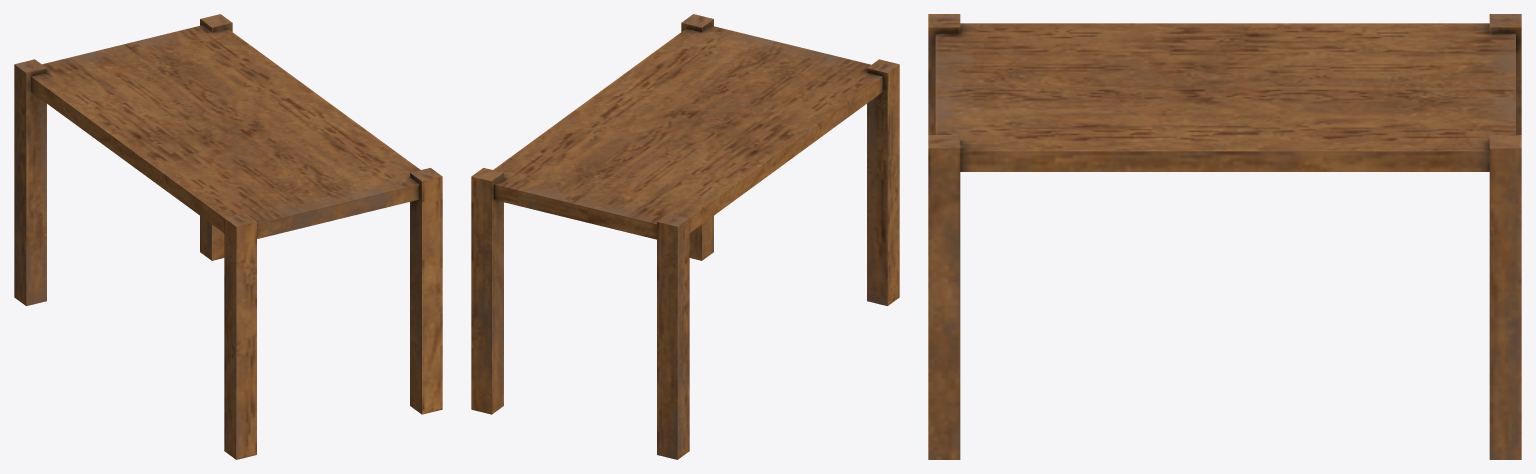
File: table5.fbx
3 renders of one model, left to right at view 1: azimuth 30°, elevation 25°; view 2: azimuth 150°, elevation 25°; view 3: azimuth 270°, elevation 25°, orthographic. The views are drawn at different scales.
Visible parts, largest first — view 1: pCube815.010; view 2: pCube815.010; view 3: pCube815.010.
Boxes of the visible parts, x1,y1,x2,y2 form: pCube815.010: (14, 14, 442, 459); pCube815.010: (471, 14, 899, 459); pCube815.010: (928, 14, 1521, 459).
Size of the model in its own units: 0.463 by 0.5003 by 0.8636.
Materials: 1 (1 with a texture image).
